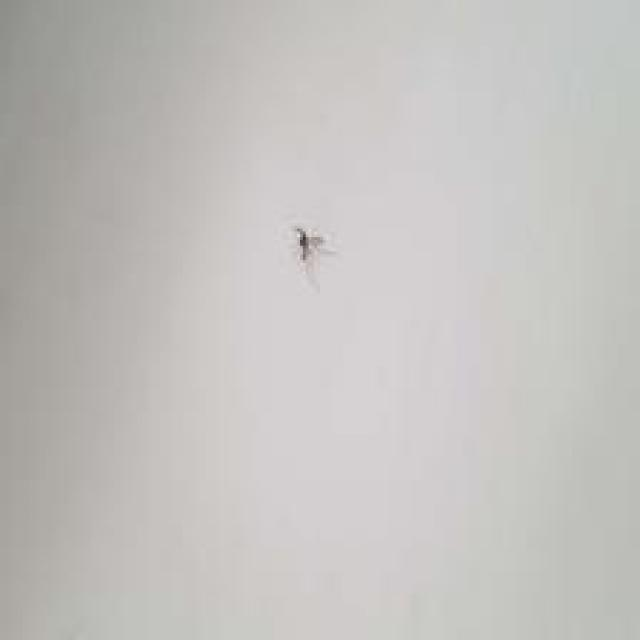Culex: (294, 227, 326, 262)
